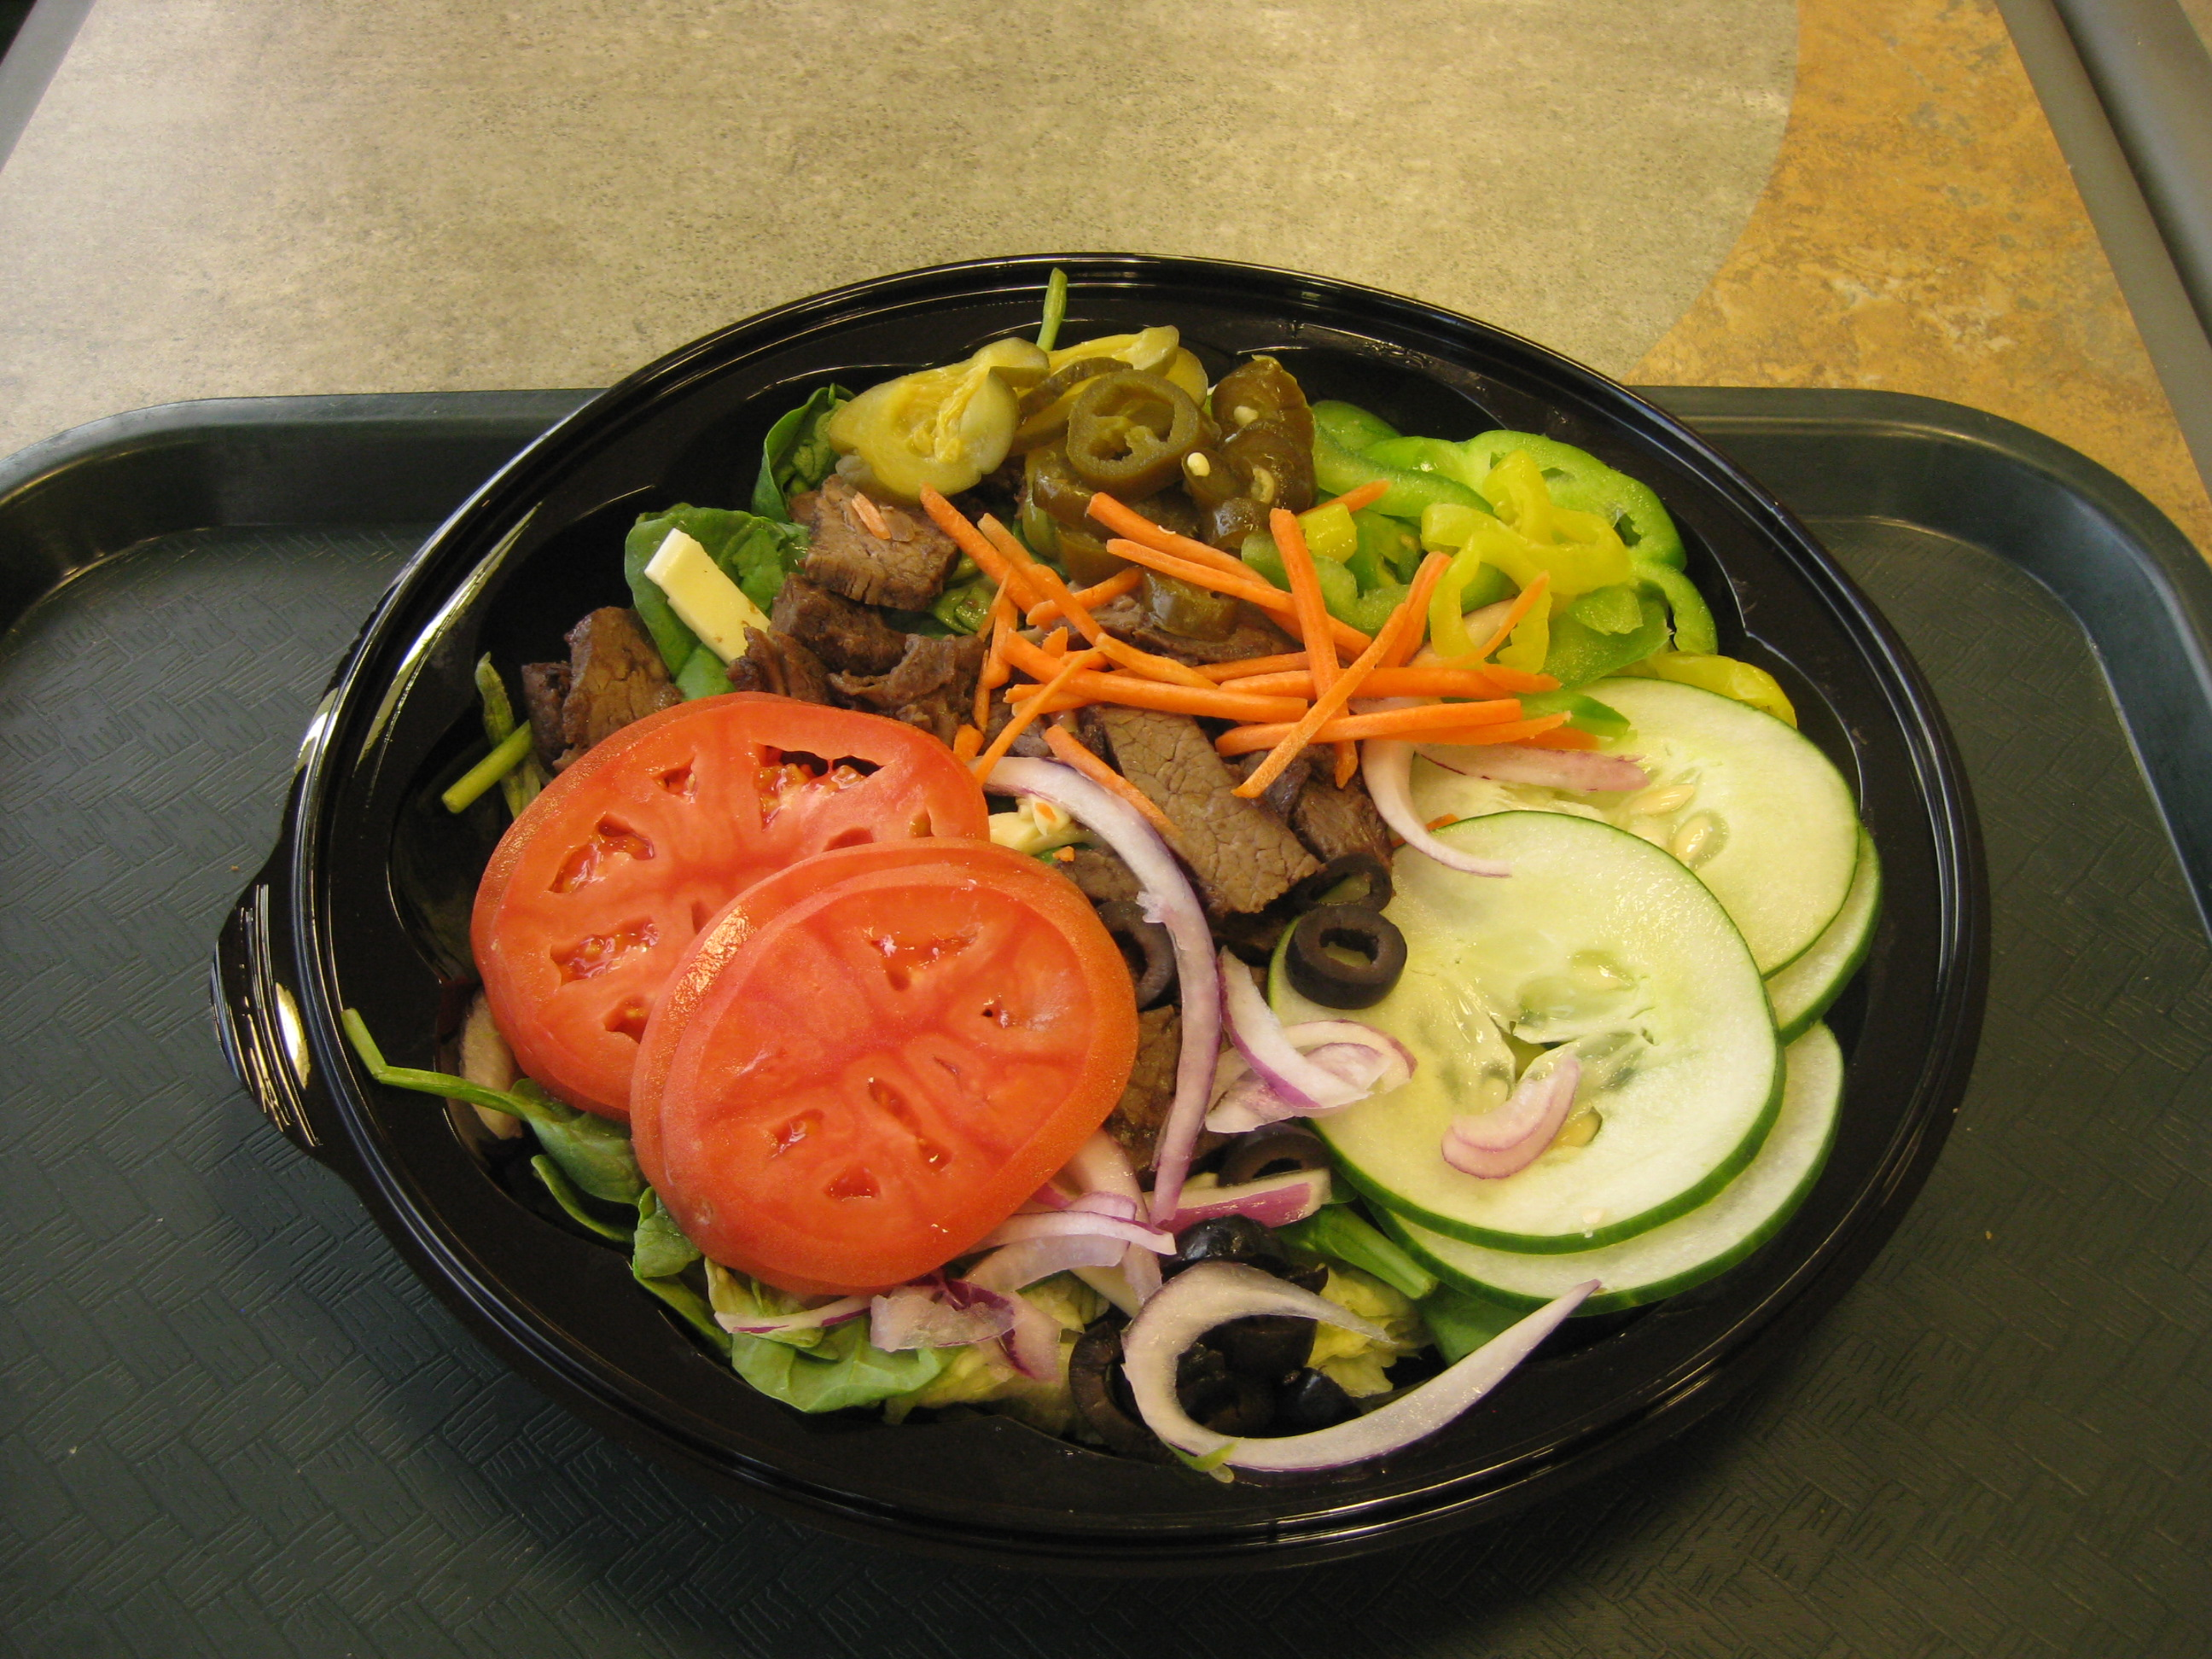salad: (414, 297, 1916, 1487)
